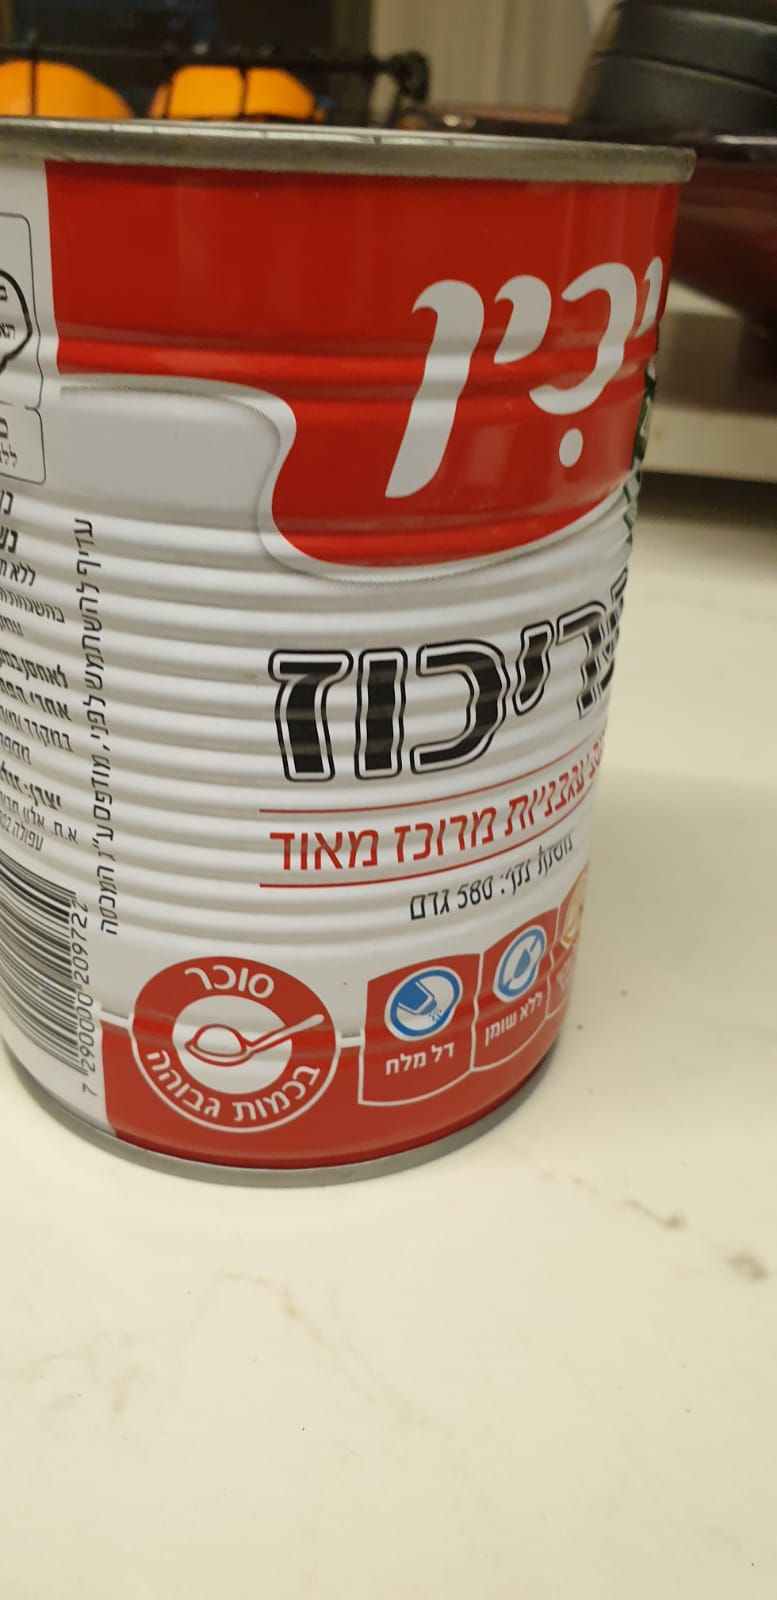sugar: (130, 953, 344, 1138)
